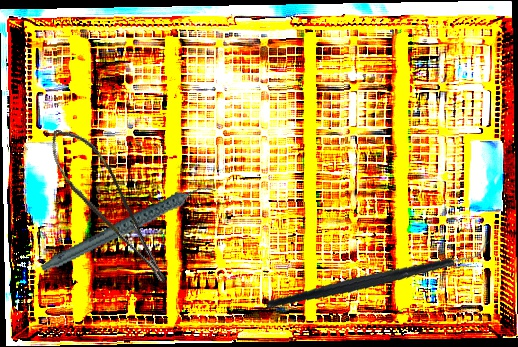Chopper: (267, 214, 489, 335)
Handpiece: (30, 183, 226, 274)
Micro Scissor: (39, 114, 173, 301)
